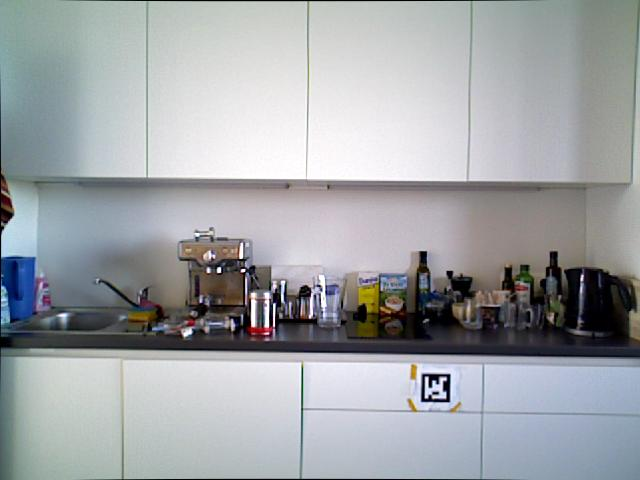bench: (415, 250, 430, 315), (0, 274, 18, 324), (514, 263, 534, 306), (545, 250, 562, 297), (34, 270, 51, 313), (501, 263, 514, 298)
bird: (382, 294, 405, 315)
couch: (4, 305, 150, 334)
handbag: (0, 257, 38, 317), (314, 275, 346, 328), (458, 294, 484, 329), (503, 301, 533, 331), (479, 305, 502, 332)
